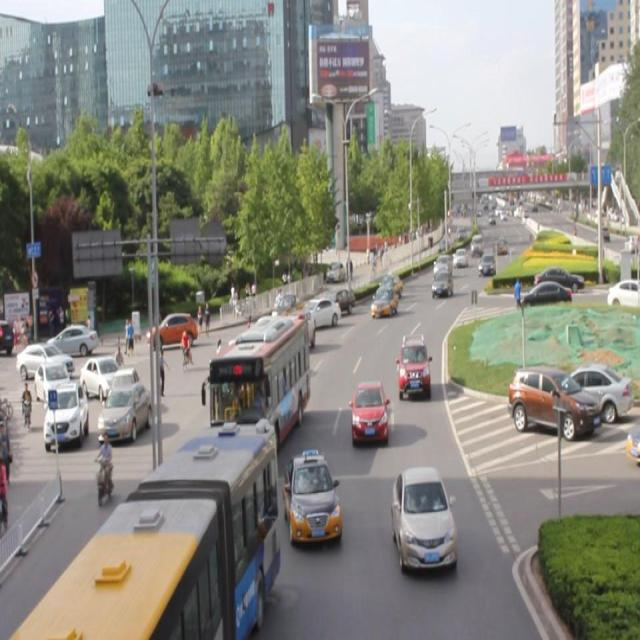car: (391, 466, 455, 568), (284, 450, 338, 541), (351, 378, 386, 440), (238, 318, 289, 358), (397, 332, 429, 393), (280, 310, 314, 360), (211, 345, 245, 395), (255, 335, 294, 376), (300, 294, 339, 326), (248, 315, 277, 357), (319, 283, 354, 312), (369, 284, 396, 316), (429, 266, 452, 297), (376, 272, 401, 298)
van: (9, 417, 277, 640), (208, 312, 310, 444)
